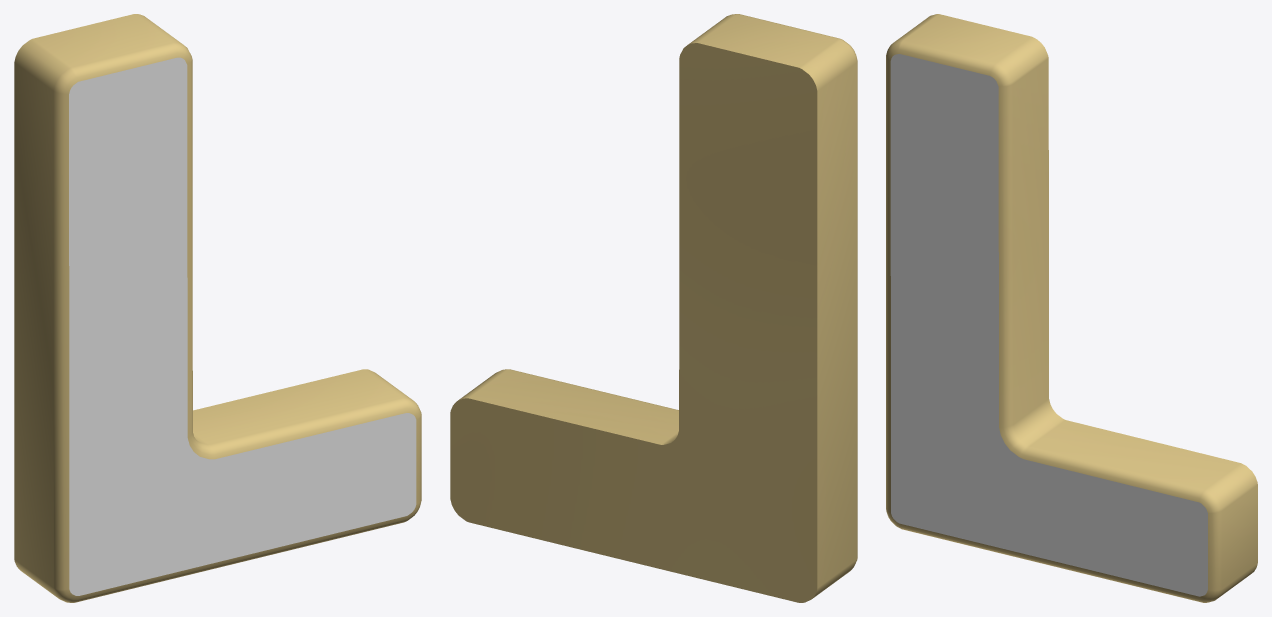
File: LettersLightUp02_L.FBX
3 views of the same model, side by side, from view 1: azimuth 30°, elevation 25°; view 2: azimuth 150°, elevation 25°; view 3: azimuth 330°, elevation 25° (orthographic). The views are drawn at different scales.
Parts seen in each view (by area): view 1: LettersLightUp02_L; view 2: LettersLightUp02_L; view 3: LettersLightUp02_L.
Part boxes in pixels (x1,y1,x2,y2): LettersLightUp02_L: [14, 14, 421, 602]; LettersLightUp02_L: [450, 14, 857, 602]; LettersLightUp02_L: [886, 14, 1257, 602].
Size of what is drawn, in the model's own units: 0.4304 by 0.5996 by 0.0912.
